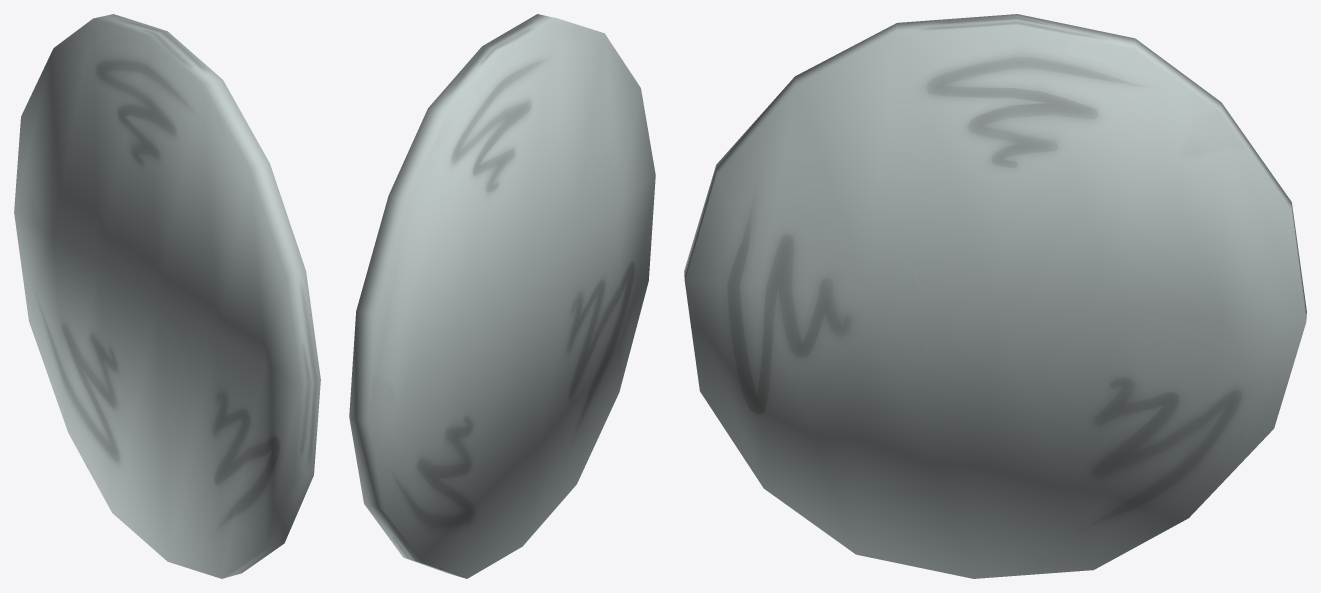
The model's file is Serra.fbx.
The picture shows the model from 3 angles, left to right: view 1: azimuth 30°, elevation 25°; view 2: azimuth 150°, elevation 25°; view 3: azimuth 270°, elevation 25°; orthographic projection. The views are drawn at different scales.
Visible parts, largest first — view 1: Serra; view 2: Serra; view 3: Serra.
Boxes of the visible parts, x1,y1,x2,y2 form: Serra: (14,14,320,578); Serra: (349,14,655,578); Serra: (684,14,1306,578).
Bounding box in the file's own units: 9.16 × 220 × 224.
